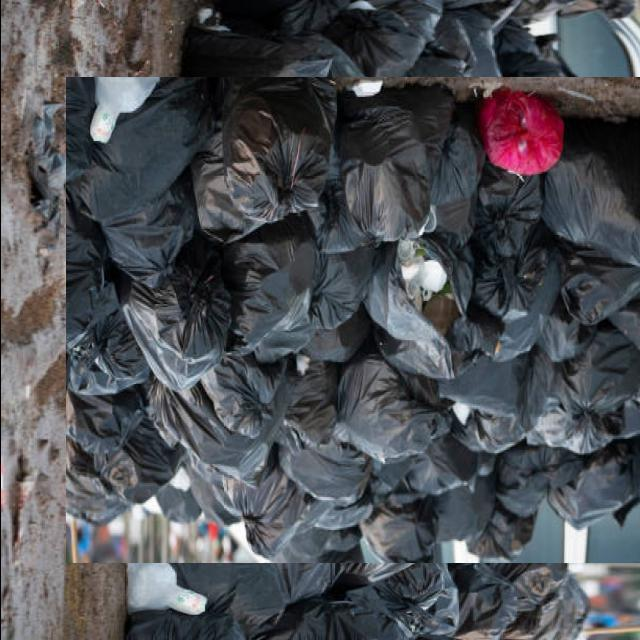Trashbag: (193, 71, 344, 231), (74, 65, 204, 226), (339, 86, 461, 244), (120, 259, 237, 392), (152, 369, 286, 485), (538, 122, 640, 264), (224, 214, 327, 351), (324, 354, 438, 462), (481, 240, 564, 362), (554, 312, 636, 410), (308, 235, 381, 342), (474, 164, 550, 262), (441, 353, 533, 425)
